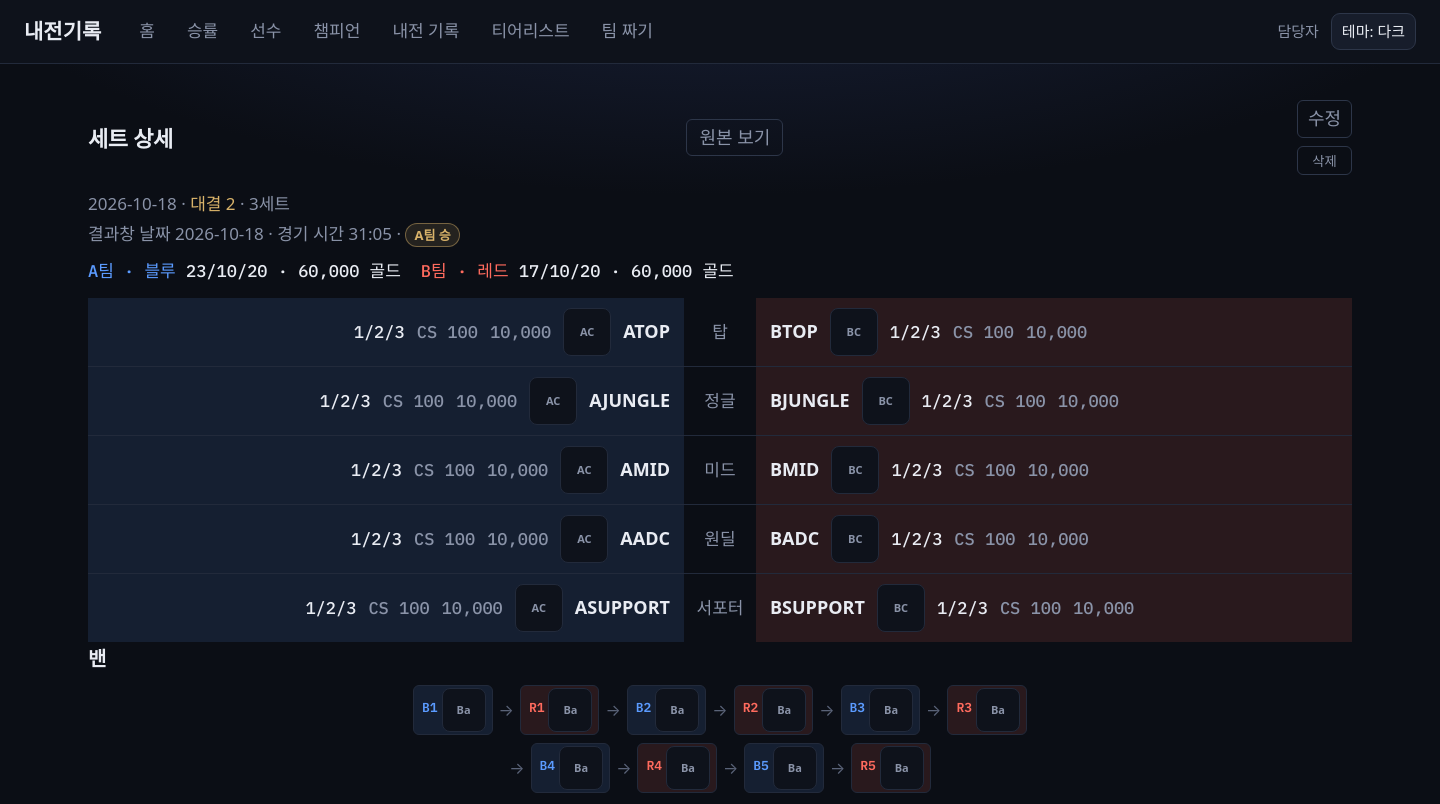
Test case: SetAdminActions › 이미 삭제된 세트면 오류 문구를 보여 준다
Click the button "삭제".
click(1324, 160)  # box [1297,146,1352,175]
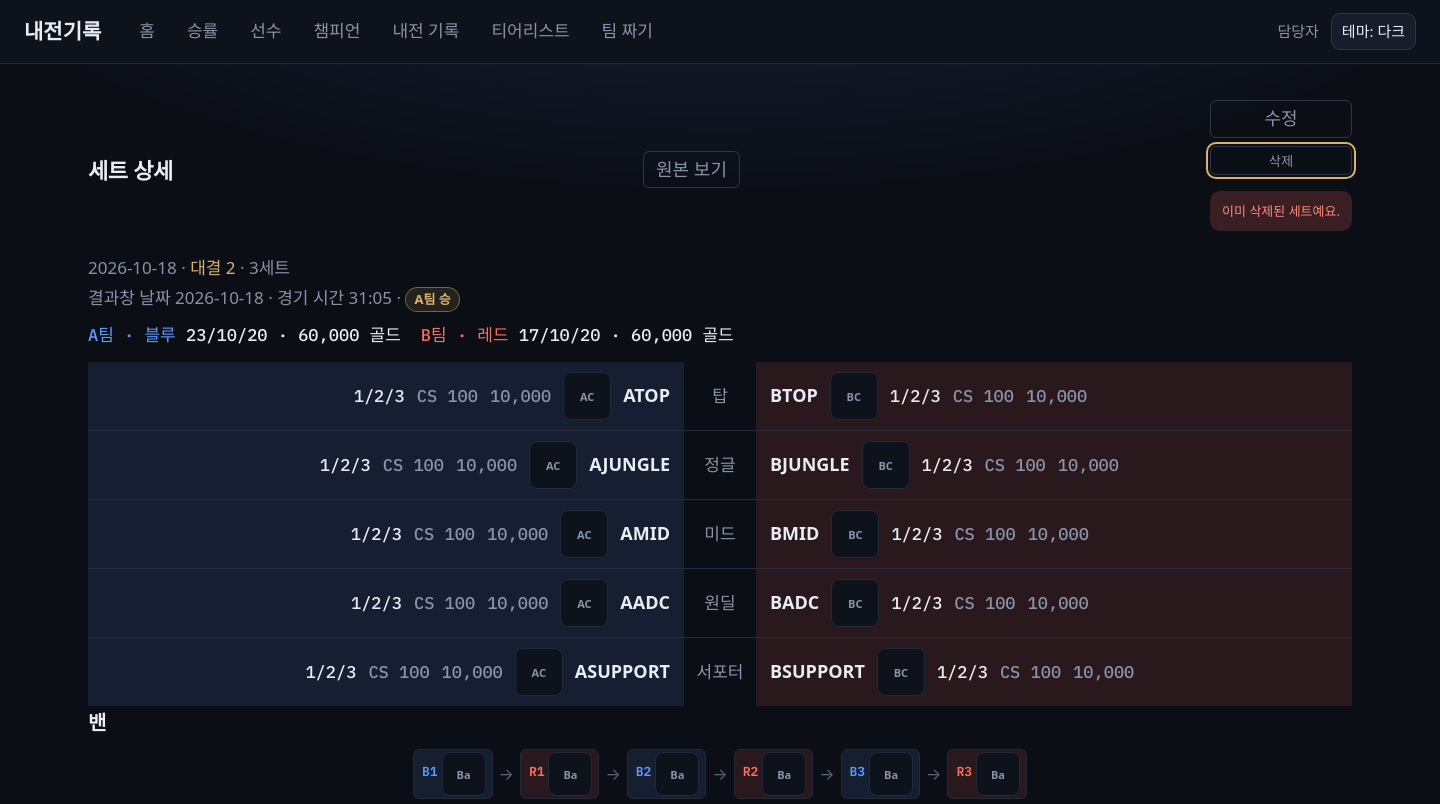
Expected: the text "이미 삭제된 세트예요." is shown, [1222,201,1340,221]
